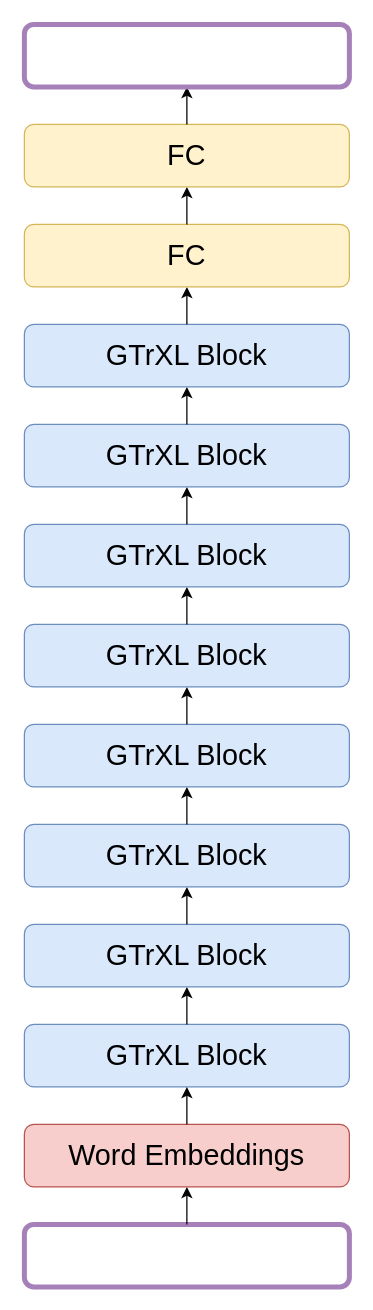
The diagram is 373 pixels wide and 1310 high, and some of its shapes have lost their labels. The box of each missing label's shape, as (x1, y1, x2, y2) in pixels:
Word Inputs: (21, 1221, 351, 1289)
Word outputs: (21, 21, 351, 89)
